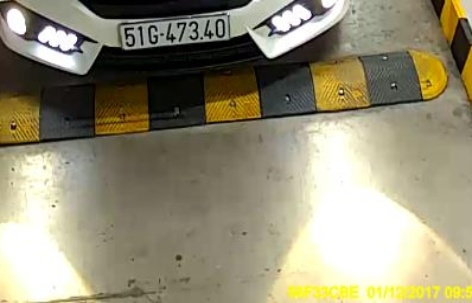plate: (115, 12, 235, 49)
